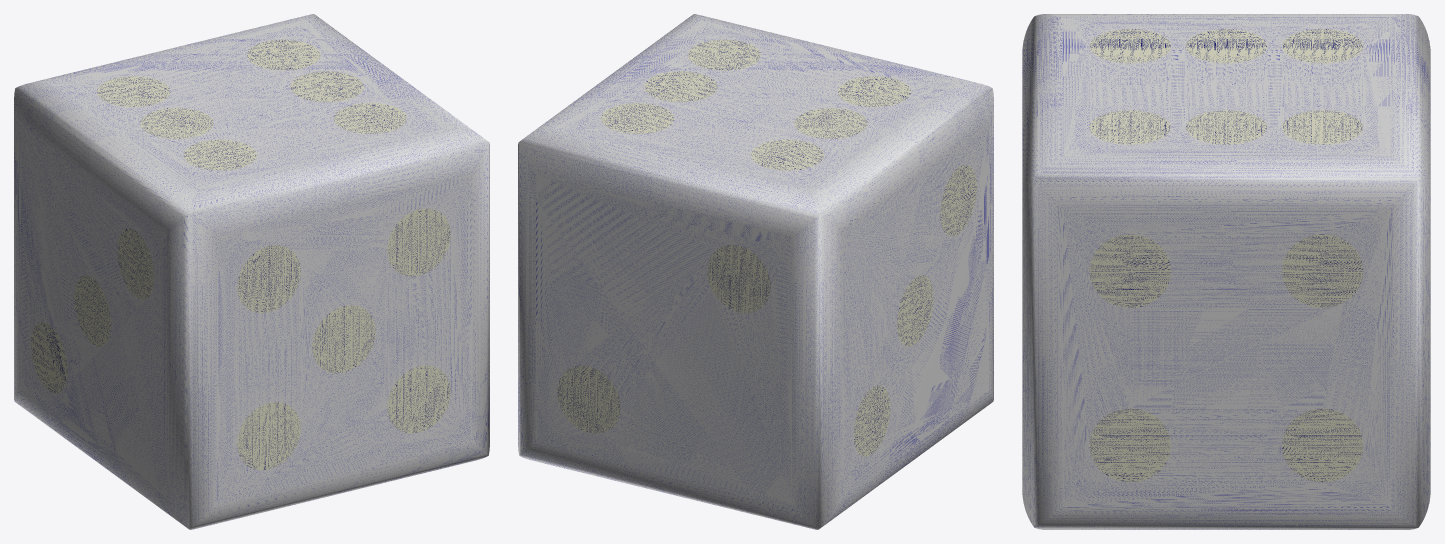
The picture shows the model from 3 angles, left to right: view 1: azimuth 30°, elevation 25°; view 2: azimuth 150°, elevation 25°; view 3: azimuth 270°, elevation 25°; orthographic projection. The views are drawn at different scales.
Parts seen in each view (by area): view 1: wuerfel (×15); view 2: wuerfel (×12); view 3: wuerfel (×11).
Part boxes in pixels (<box>): wuerfel (×15): <box>14,14,489,529</box>; wuerfel (×12): <box>518,14,993,529</box>; wuerfel (×11): <box>1022,14,1430,529</box>.
Bounding box in the file's own units: 3.94 × 3.94 × 3.94.
